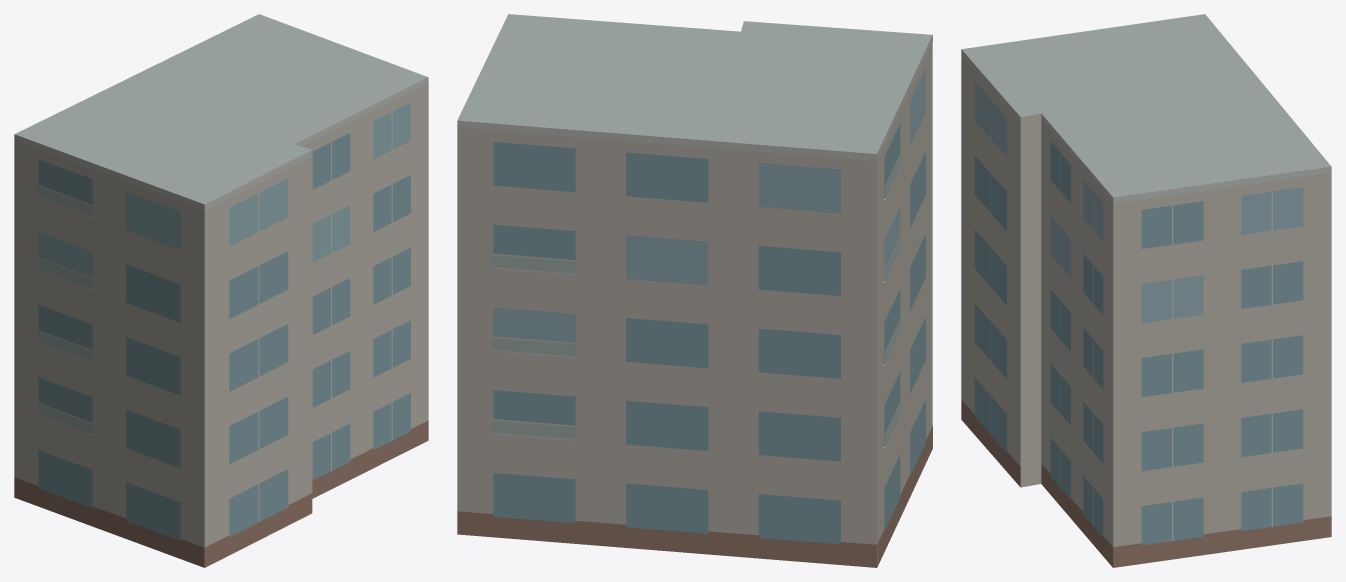
Rendered from survey-upis-32912722.glb.
3 views of the same model, side by side, from view 1: azimuth 30°, elevation 25°; view 2: azimuth 150°, elevation 25°; view 3: azimuth 270°, elevation 25° (orthographic). The views are drawn at different scales.
Parts seen in each view (by area): view 1: survey-upis-32912722.tmp; view 2: survey-upis-32912722.tmp; view 3: survey-upis-32912722.tmp.
Boxes of the visible parts, x1=… form: survey-upis-32912722.tmp: x1=14, y1=14, x2=428, y2=567; survey-upis-32912722.tmp: x1=457, y1=14, x2=932, y2=567; survey-upis-32912722.tmp: x1=961, y1=14, x2=1331, y2=567.
Bounding box in the file's own units: 15.42 × 14.5 × 13.15.
